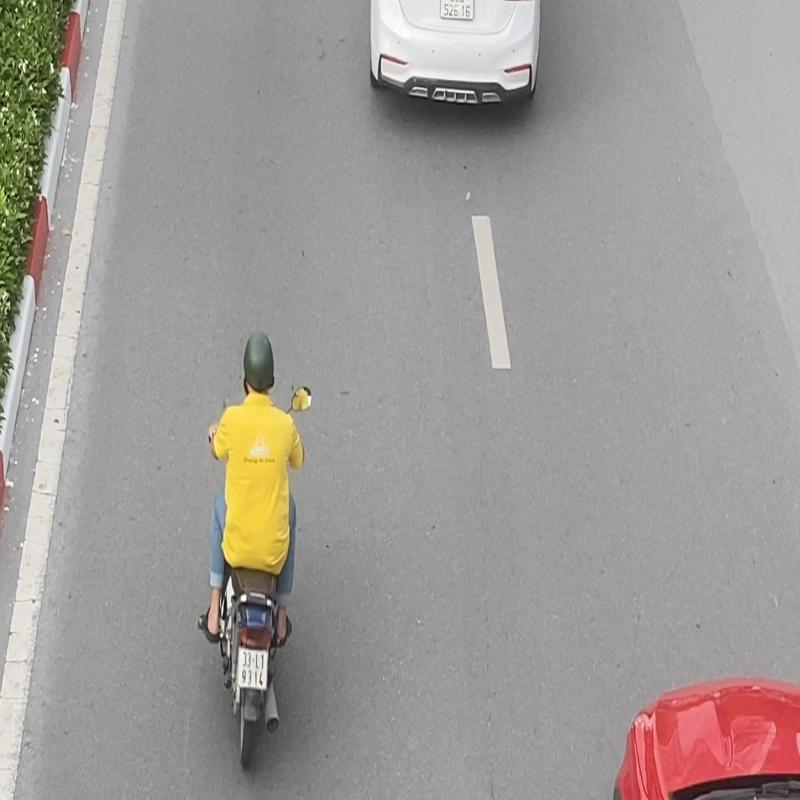helmet: (241, 329, 275, 392)
licenseplate: (237, 648, 268, 690)
motorcyclist: (198, 324, 316, 772)
